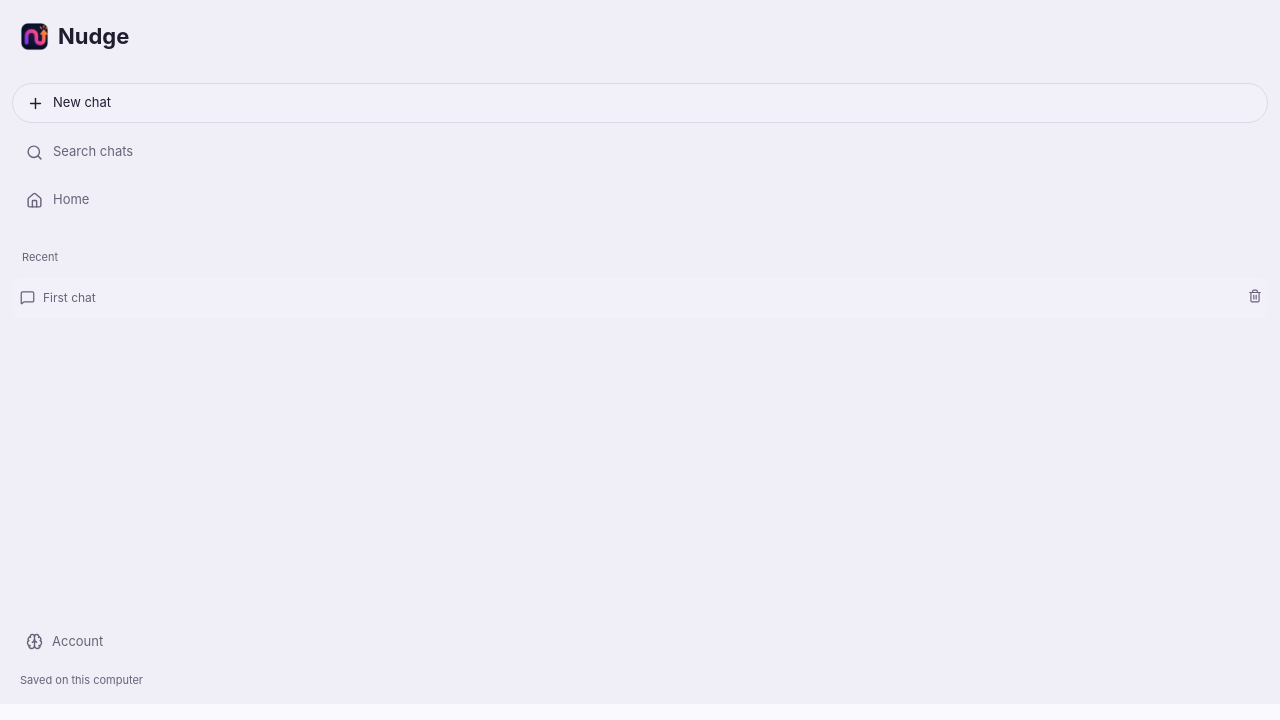
Test: local memory controls › filters saved titles and Home restores the chat view
Click the button "Search chats" at point(93, 151), box [12, 133, 1268, 171]
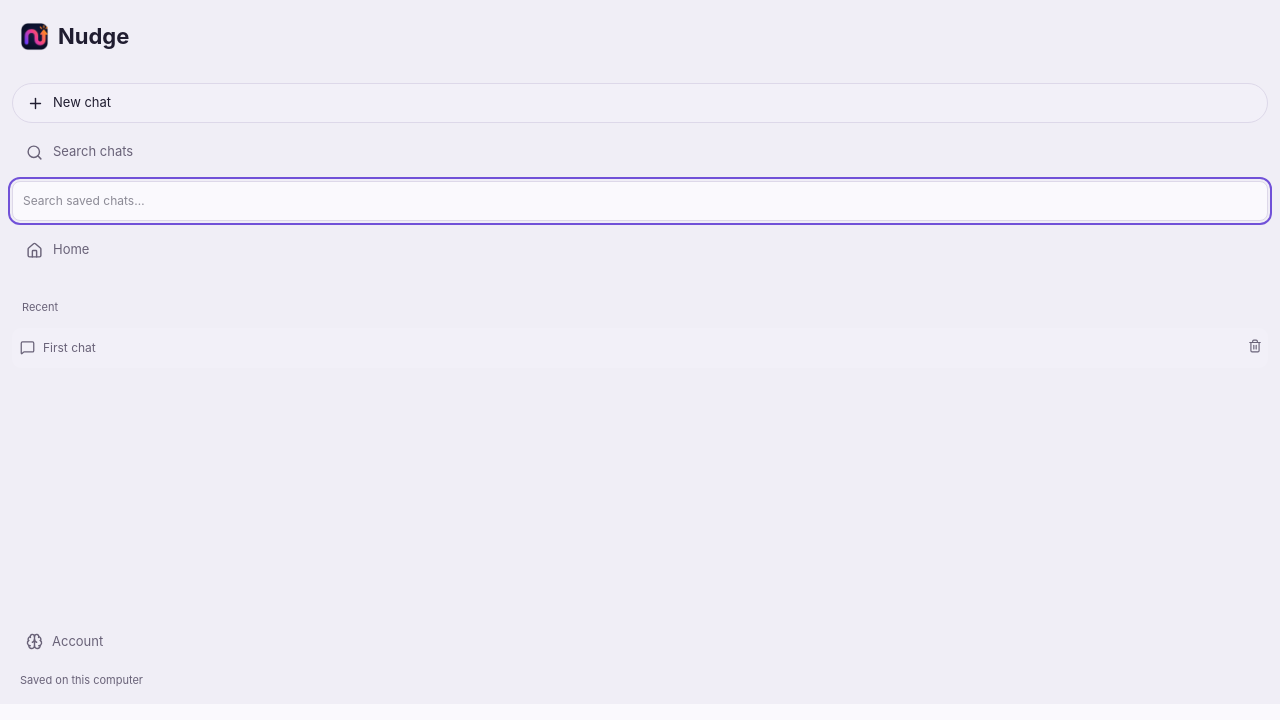
Type "missing" into the field labelled "Search saved chats" at point(640, 201), box [12, 181, 1268, 221]
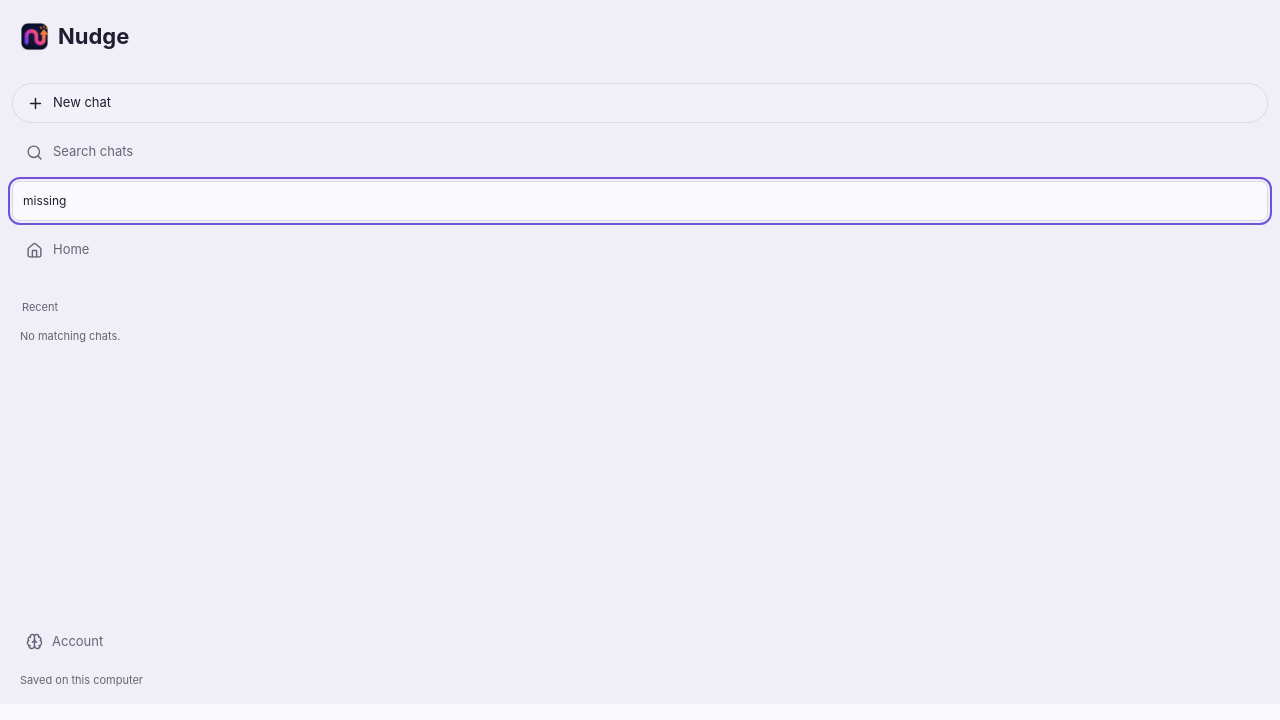
Now the text "No matching chats." is shown, box [20, 328, 120, 342]
Now the button "First chat" is gone
Click the button "Home" at point(71, 249), box [12, 231, 1268, 269]
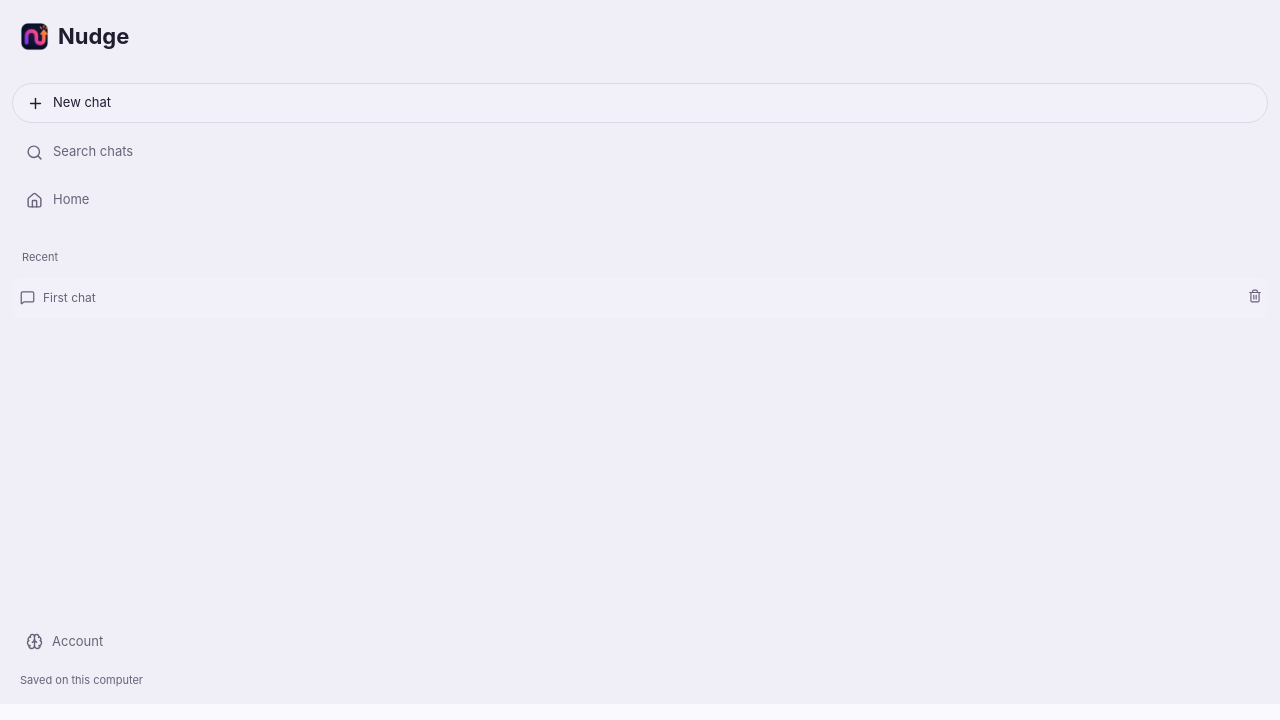
Now the button "First chat" is shown, box [12, 278, 1242, 318]
Now the field is gone
